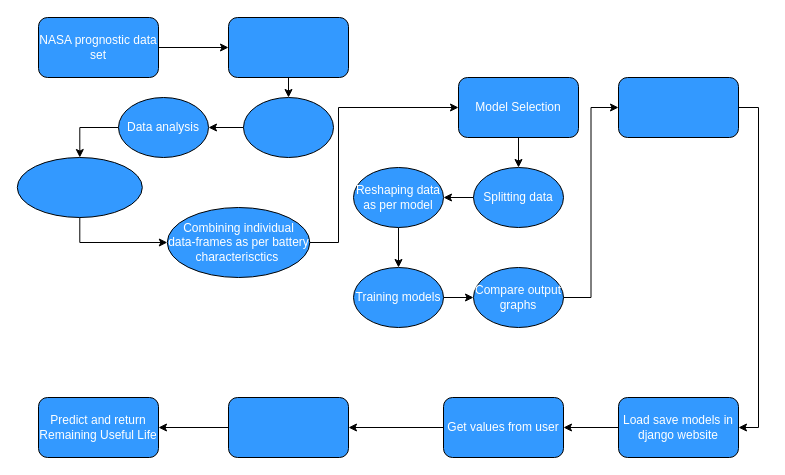
This 785x475 diagram has some shape labels left out. Each missing label, with the centre of its shape:
Convert .mat to json format: (x=288, y=127)
Data Pre-processing: (x=288, y=47)
load data-frame from json: (x=79, y=187)
Saving best models for deployment: (x=678, y=107)
Select model accordingly: (x=288, y=427)
